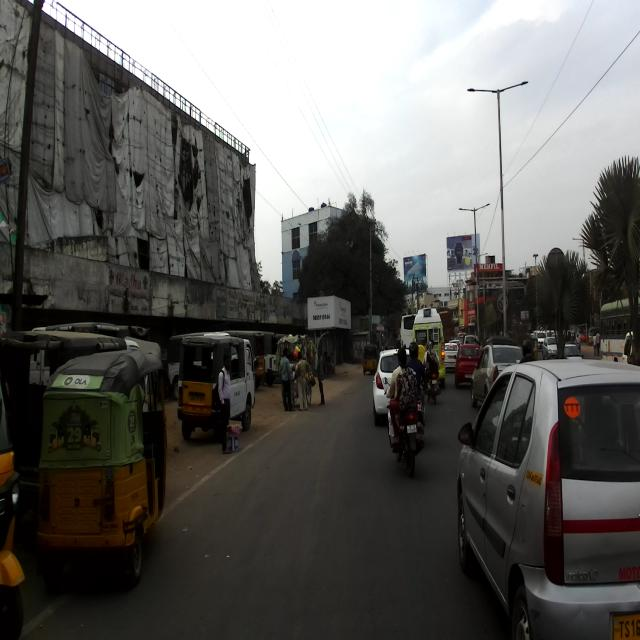auto ahead at: (44, 338, 174, 592)
car ahead at: (451, 356, 640, 640)
motorcycle ahead at: (382, 400, 427, 481)
person ahead at: (213, 358, 238, 457)
